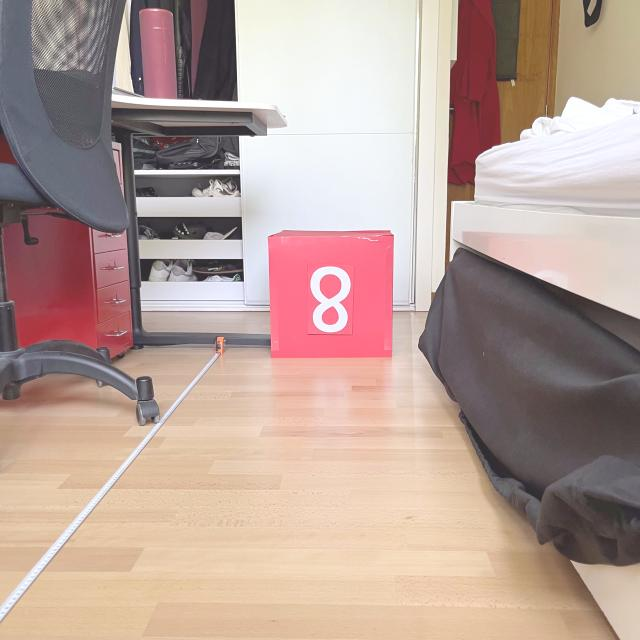box: (264, 225, 397, 360)
